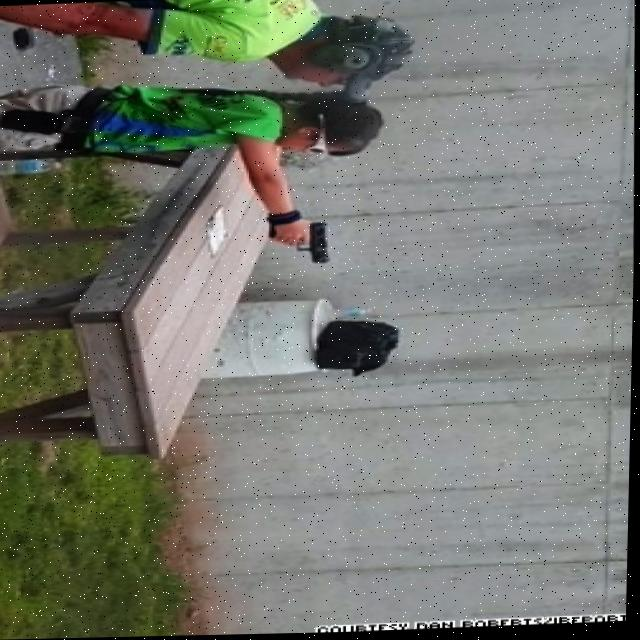pistol: (293, 223, 331, 266)
